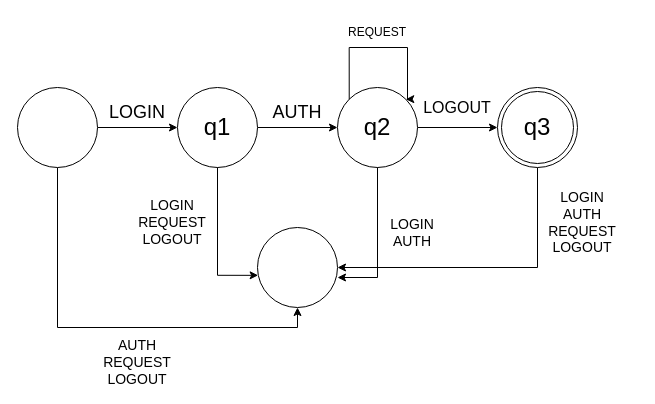
Image size: 655x404. Some labels were removed from this diagram. Here are the shapes that lost their labels. From the top down, the box of each, then its label:
(16, 86, 98, 168): q0
(256, 226, 338, 308): q4
